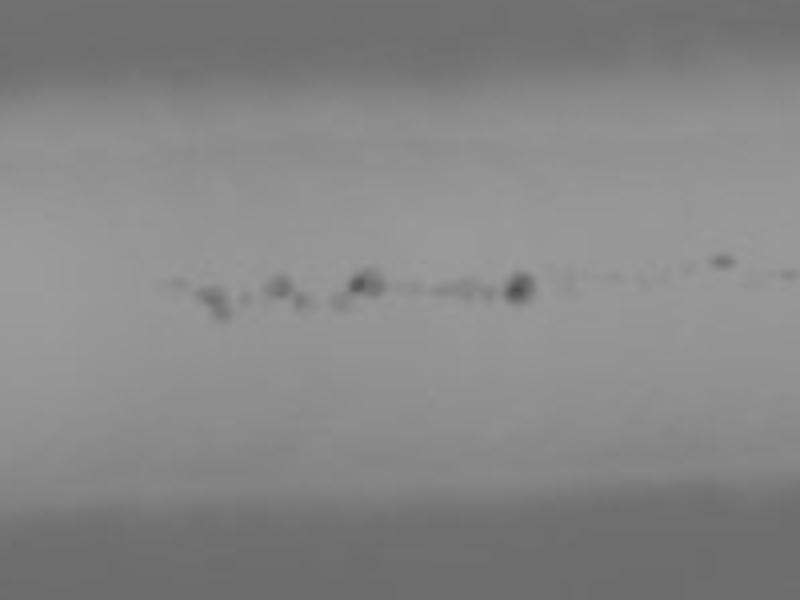defect: (195, 286, 231, 325), (432, 278, 481, 303), (349, 268, 387, 300), (503, 273, 536, 304), (267, 273, 295, 297), (324, 294, 350, 316), (709, 254, 735, 272), (780, 266, 799, 285), (171, 276, 188, 292), (236, 289, 251, 307), (295, 294, 311, 308)
